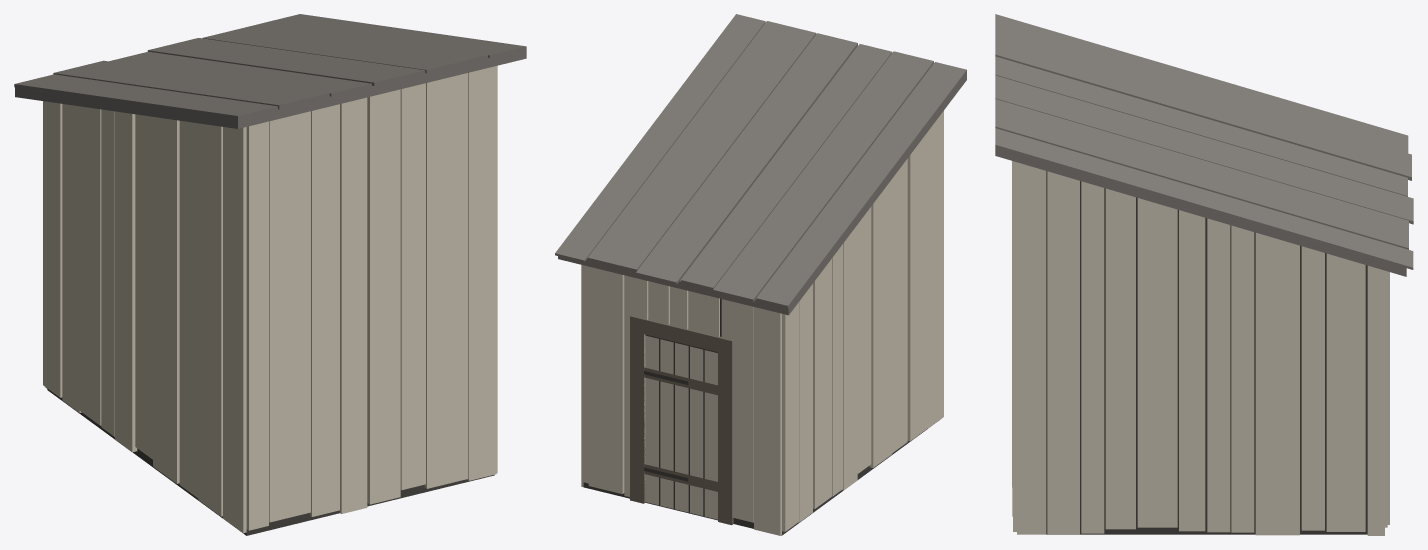
The model's file is recon_1835_blk_washington_clinton_a5_18__inferred_1835.glb.
The picture shows the model from 3 angles, left to right: view 1: azimuth 30°, elevation 25°; view 2: azimuth 150°, elevation 25°; view 3: azimuth 270°, elevation 25°; orthographic projection. The views are drawn at different scales.
Visible parts, largest first — view 1: recon_1835_blk_washington_clinton_a5_18__inferred_1835; view 2: recon_1835_blk_washington_clinton_a5_18__inferred_1835; view 3: recon_1835_blk_washington_clinton_a5_18__inferred_1835.
Boxes of the visible parts, left/top/right/bottom form: recon_1835_blk_washington_clinton_a5_18__inferred_1835: left=14, top=14, right=526, bottom=535; recon_1835_blk_washington_clinton_a5_18__inferred_1835: left=555, top=14, right=966, bottom=535; recon_1835_blk_washington_clinton_a5_18__inferred_1835: left=995, top=14, right=1413, bottom=535.
Size of the model in its own units: 2.68 by 3.85 by 3.64.
